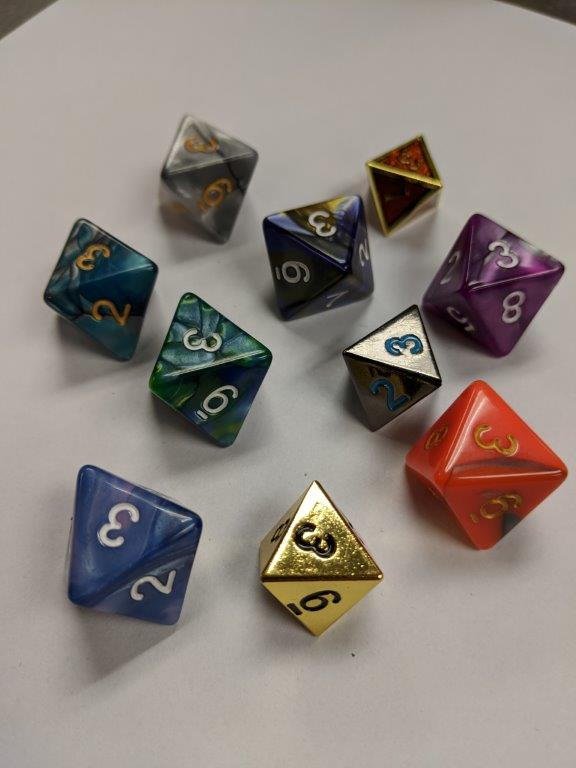d8-3: (406, 375, 569, 554), (65, 459, 203, 629), (424, 211, 567, 362), (256, 481, 387, 636), (152, 292, 271, 456), (38, 216, 160, 361), (262, 191, 381, 322), (160, 111, 257, 253), (342, 304, 442, 433), (364, 129, 444, 231)
